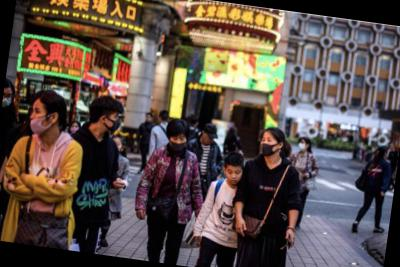mask_weared_incorrect: (27, 104, 52, 136)
with_mask: (167, 130, 189, 154), (259, 133, 281, 156), (102, 112, 123, 135), (3, 89, 14, 107), (296, 138, 309, 153)
without_mask: (225, 166, 245, 184), (204, 133, 215, 145)
